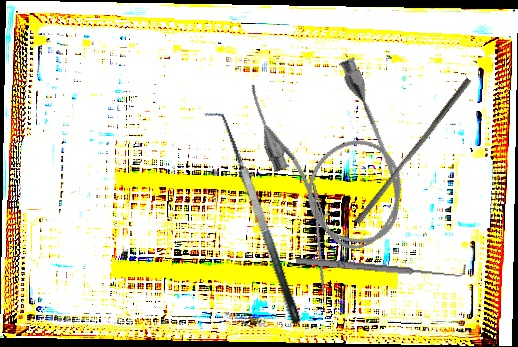Cannula: (240, 44, 424, 268)
Hook Surgical: (295, 249, 467, 282)
Needle Holder: (299, 181, 346, 293)
Pusher: (353, 73, 473, 229)
Spatula Surgical: (203, 103, 304, 332)
